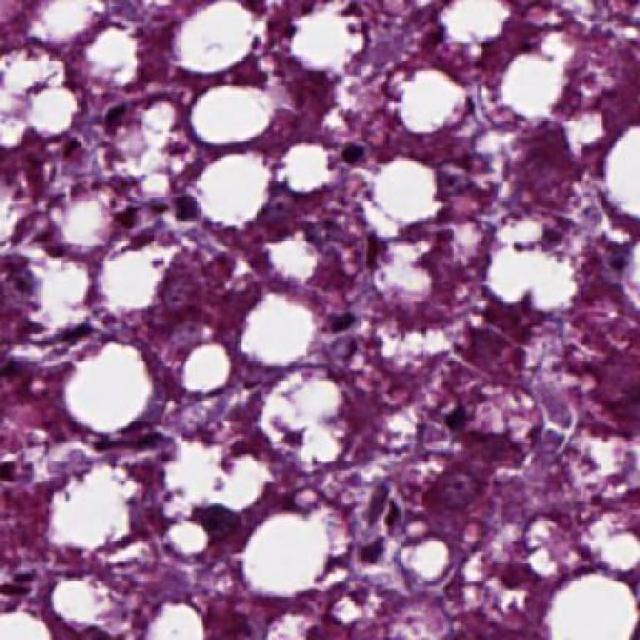steatosis: (71, 335, 157, 437), (242, 511, 329, 596), (191, 83, 275, 144)
